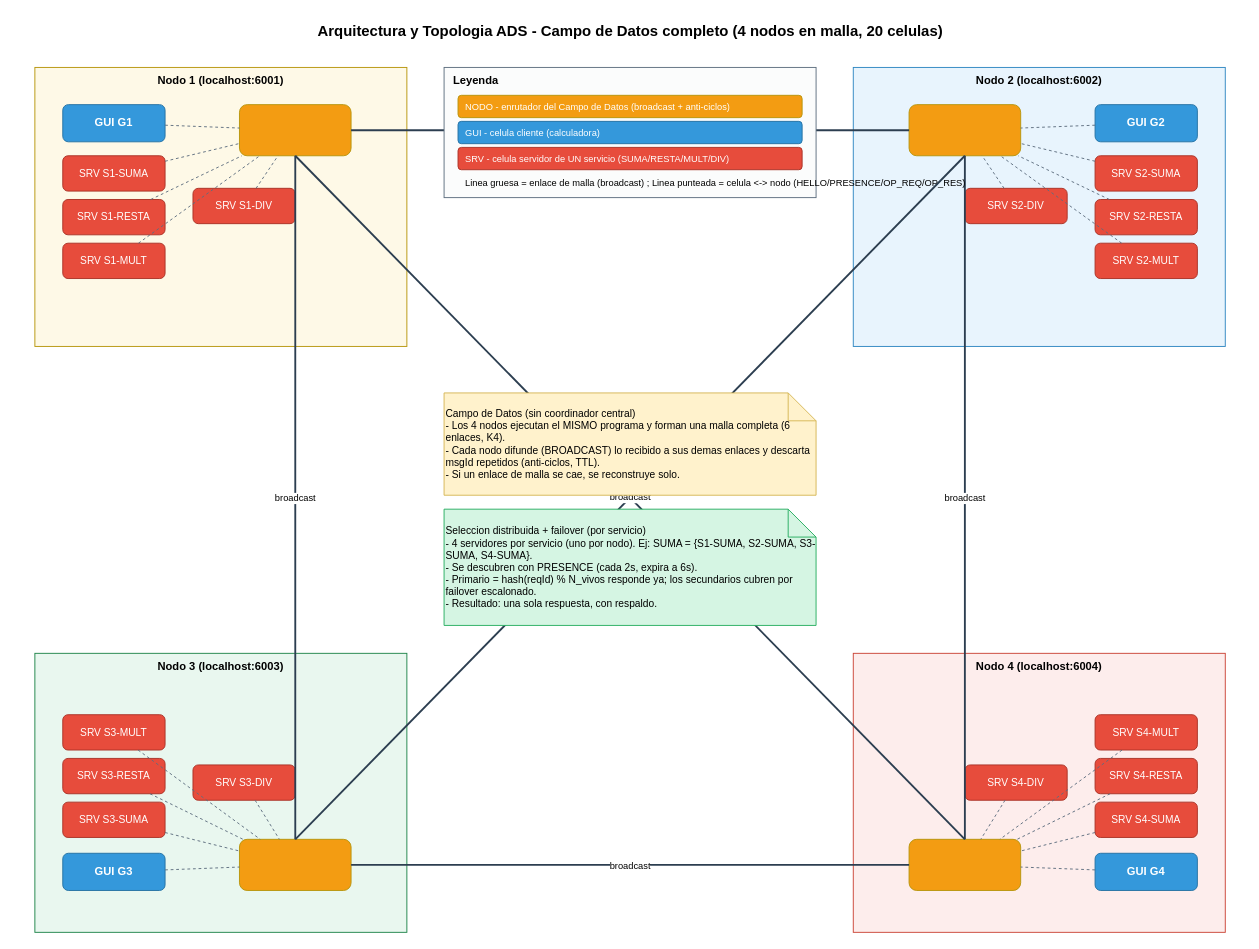
This 1259x949 diagram has some shape labels left out. The centre of each missing label's shape, as x and y in pixels:
NODO N1 :6001: the point at 295,130
NODO N2 :6002: the point at 964,130
NODO N3 :6003: the point at 295,864
NODO N4 :6004: the point at 964,864
